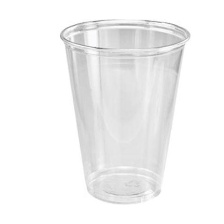glass: (49, 11, 199, 207)
